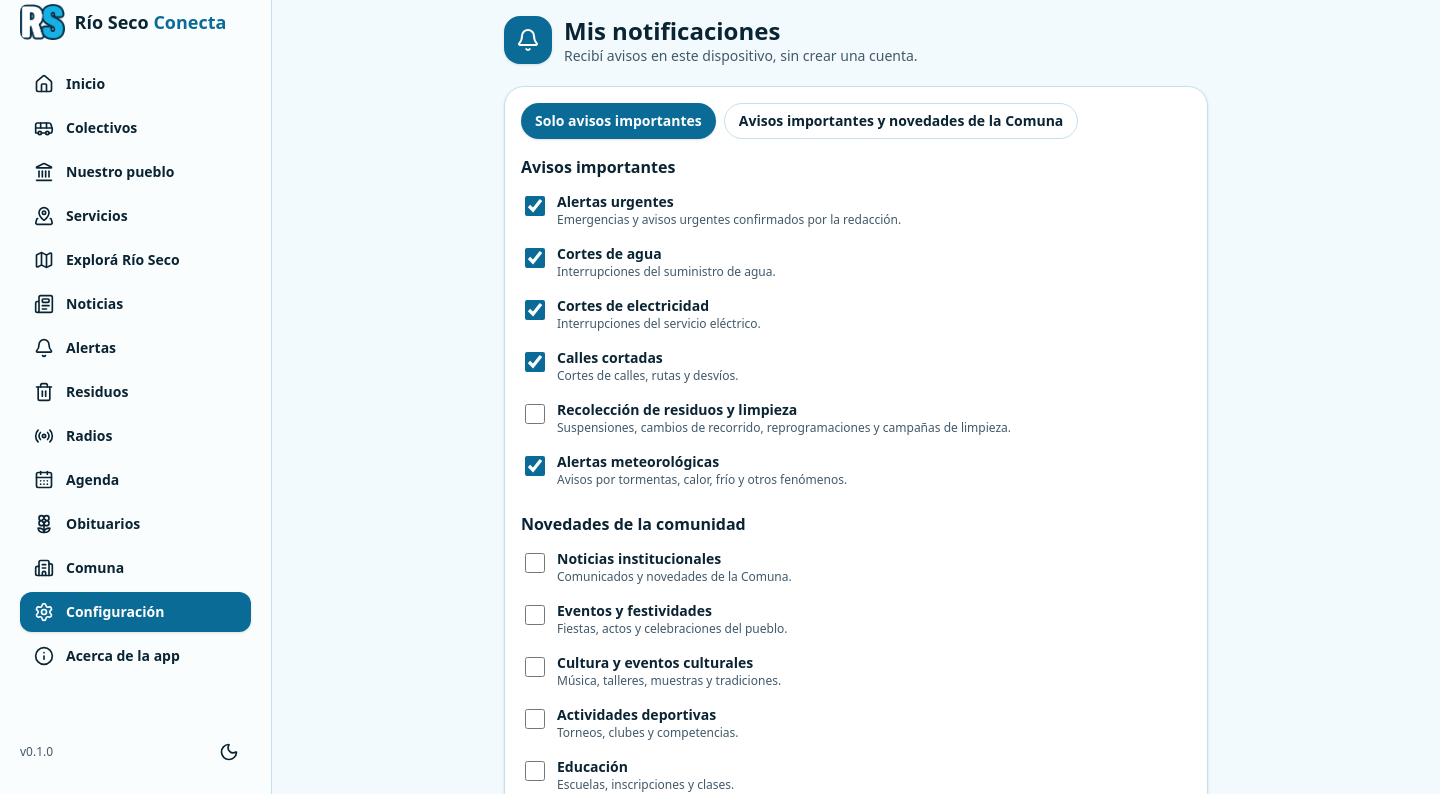
Scenario: Configuración → Mis notificaciones › activar envía exactamente los temas elegidos y confirma con un mensaje
The image size is (1440, 794).
Click the checkbox labelled "Noticias institucionales".
click(535, 563)  # box [525,553,545,573]
(page scrolled)
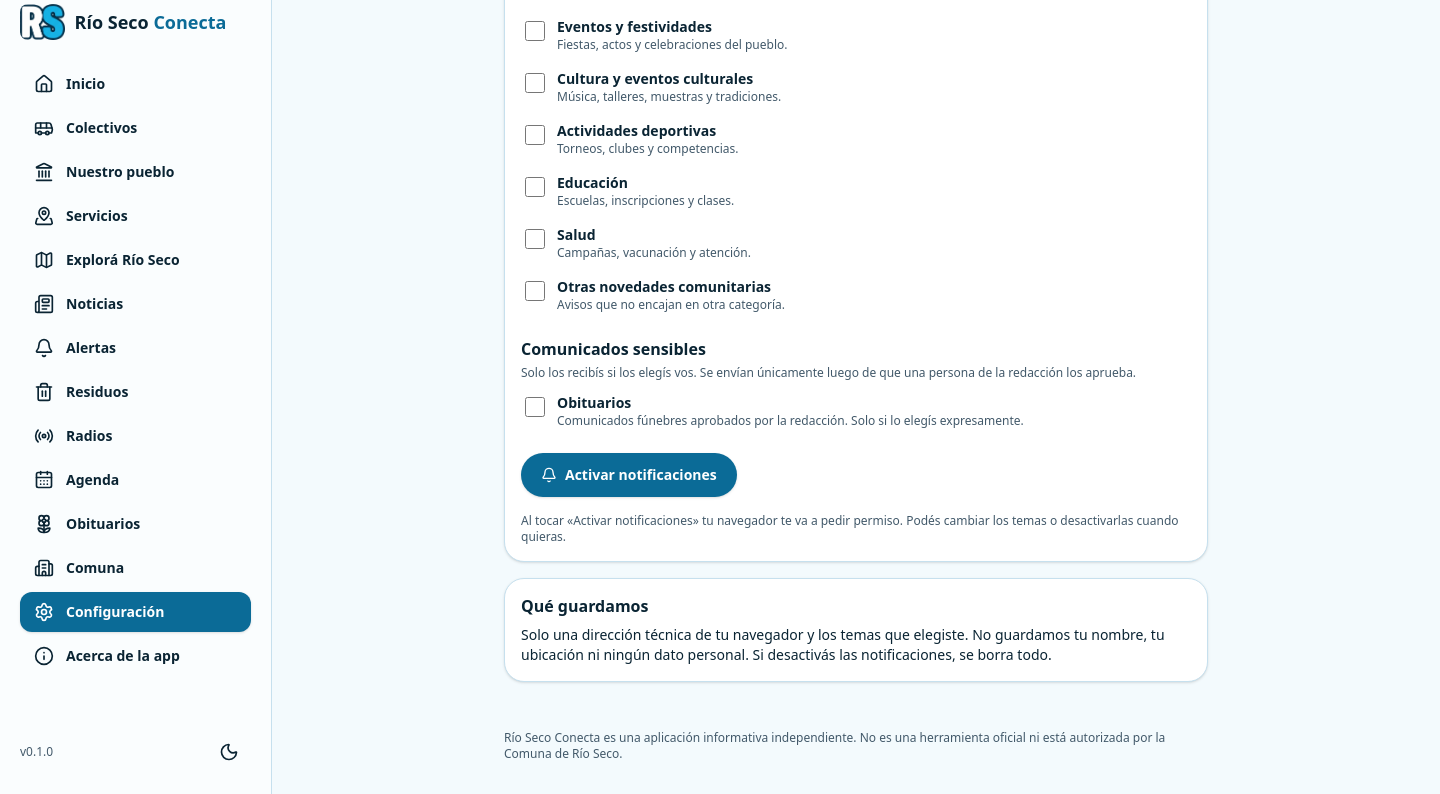
Click the button "Activar notificaciones".
click(629, 475)  # box [521,453,737,497]
(page scrolled)
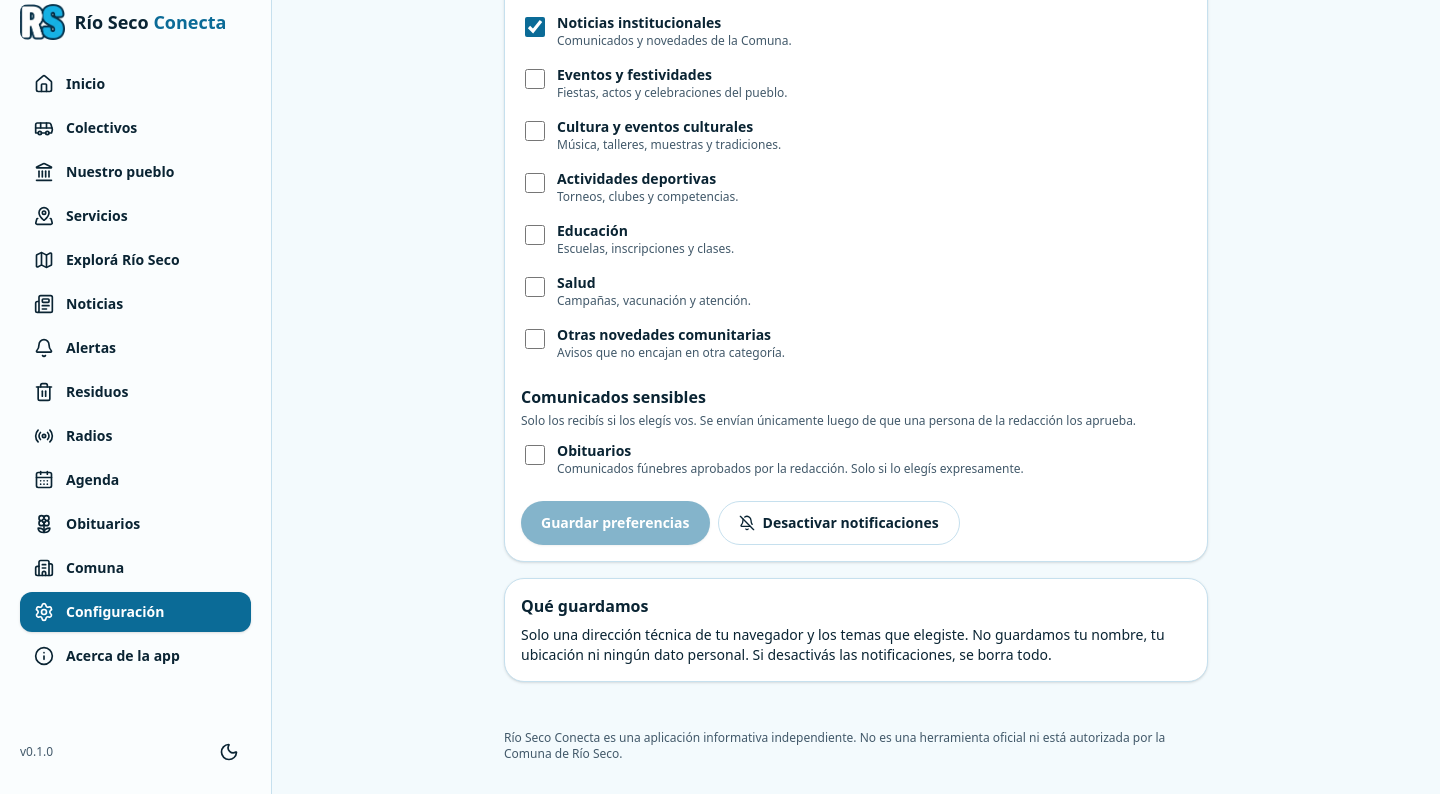
Now the button "Desactivar notificaciones" is shown, box [718,501,960,545]
